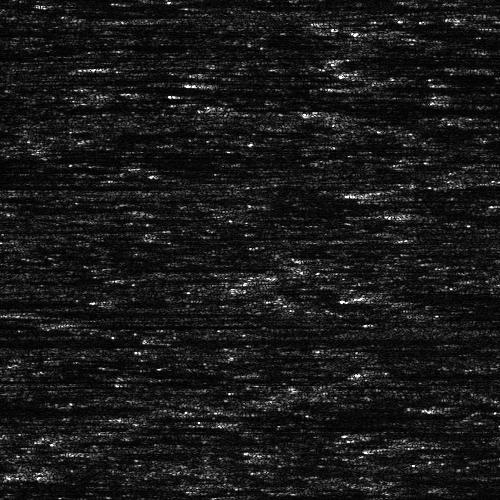rock: (38, 319, 111, 326), (462, 173, 500, 186), (0, 307, 35, 316), (152, 334, 193, 341), (367, 183, 378, 202), (363, 292, 404, 297), (318, 82, 329, 91), (400, 211, 411, 216)
shadow: (0, 326, 99, 351), (373, 183, 500, 202), (173, 334, 446, 341), (0, 307, 199, 316), (324, 82, 500, 91), (75, 319, 276, 326), (0, 180, 150, 189), (384, 292, 500, 297), (0, 405, 55, 414), (406, 211, 500, 216)
